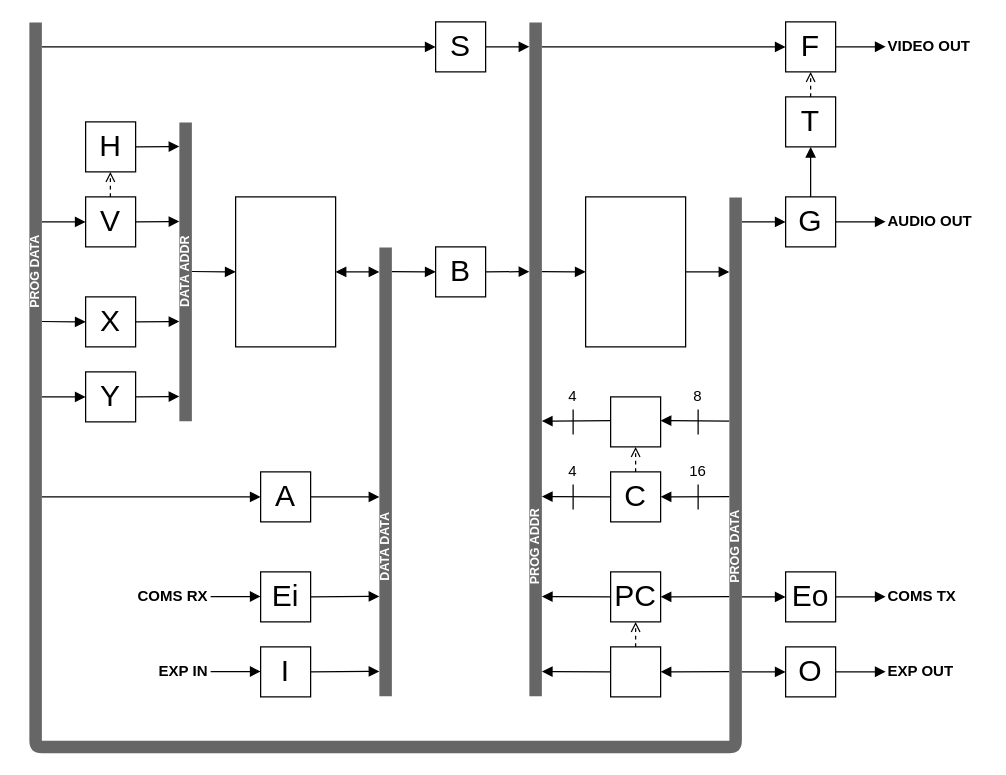
Some shapes in this 1006 by 775 pixel diagram are drawn without their labels. The centre of each missing label's shape, as x and y in pixels:
"HL" goes at (x=635, y=421).
"Pg" goes at (x=635, y=671).
"RAM" goes at (x=285, y=271).
"ROM" goes at (x=635, y=271).
